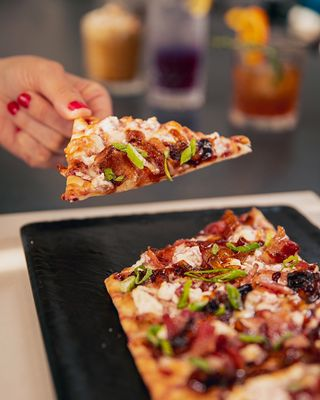pizza: (141, 0, 214, 117)
